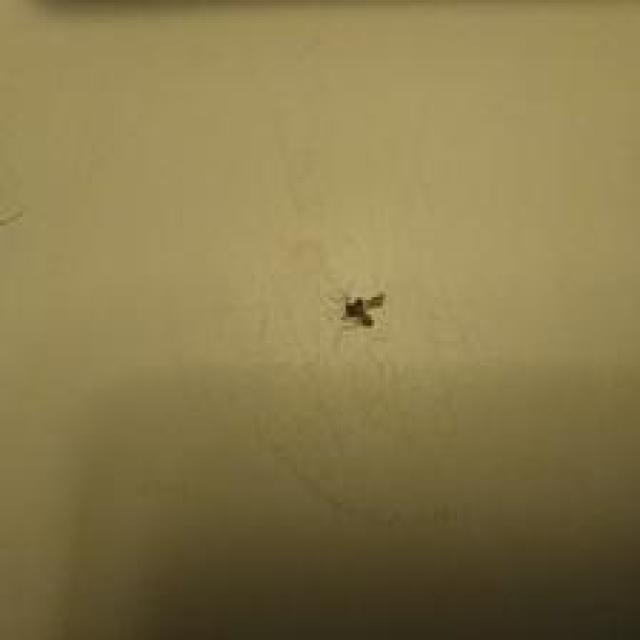Culex: (336, 292, 387, 328)
